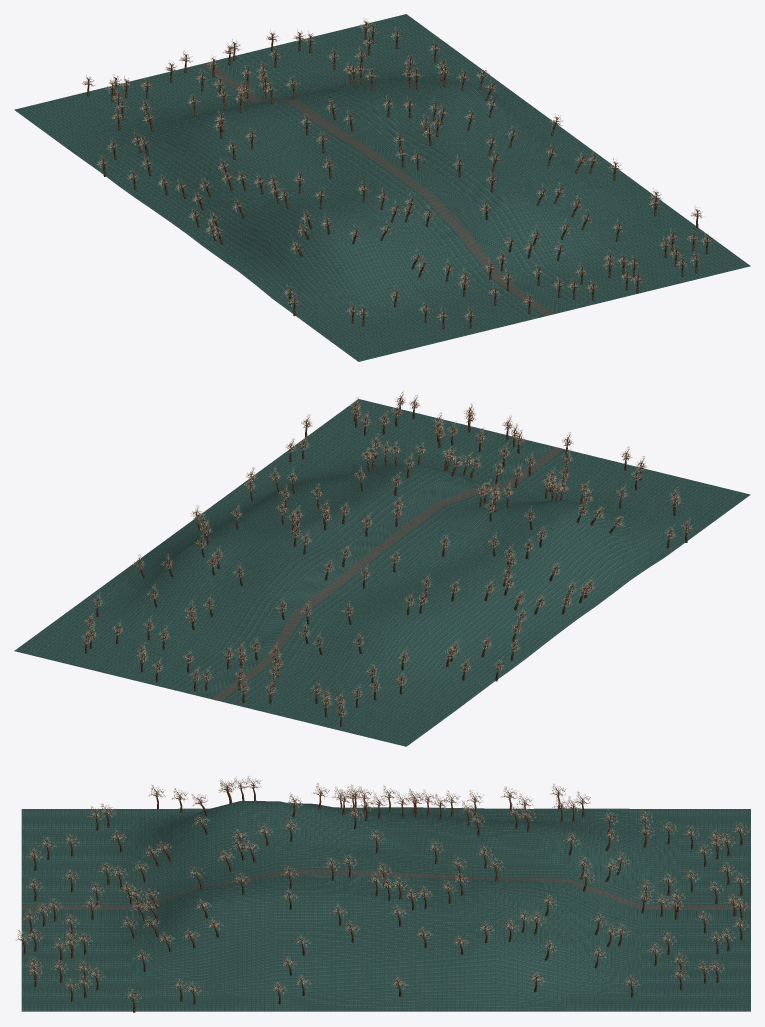
Rendered from The Hill of Silence.fbx.
The picture shows the model from 3 angles, top to bottom: view 1: azimuth 30°, elevation 25°; view 2: azimuth 150°, elevation 25°; view 3: azimuth 270°, elevation 25°; orthographic projection. The views are drawn at different scales.
Parts seen in each view (by area): view 1: Plane; view 2: Plane; view 3: Plane.
Part boxes in pixels (left/top/right/bottom): Plane: left=14, top=14, right=750, bottom=361; Plane: left=14, top=399, right=750, bottom=746; Plane: left=21, top=801, right=750, bottom=1011.
Bounding box in the file's own units: 459 × 66.86 × 683.
